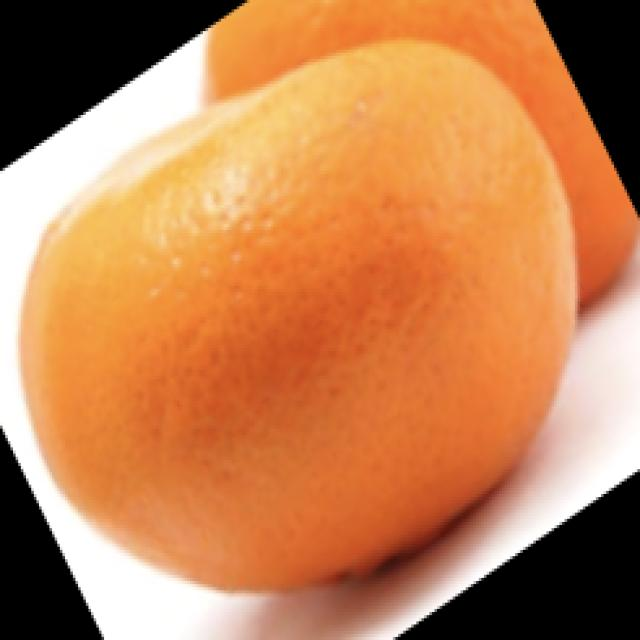matang: (17, 44, 578, 594), (195, 0, 640, 310)
